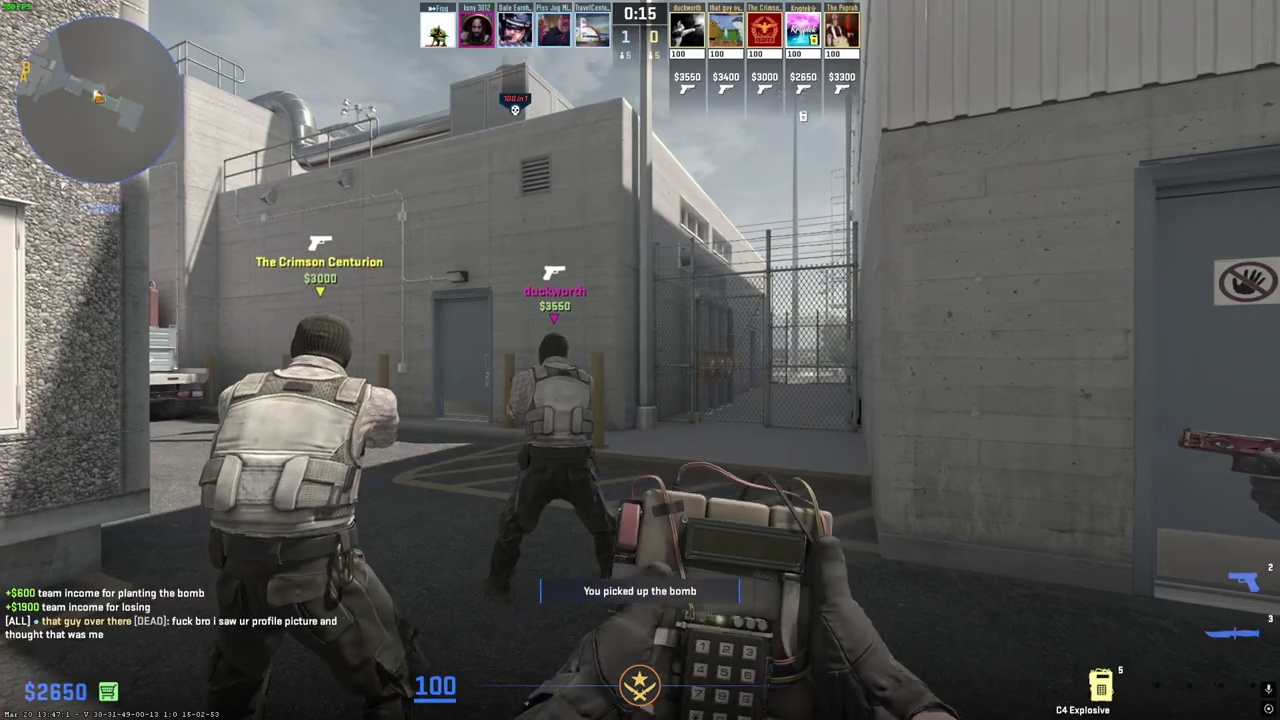Terrorist: (198, 312, 420, 720), (487, 332, 616, 603)
